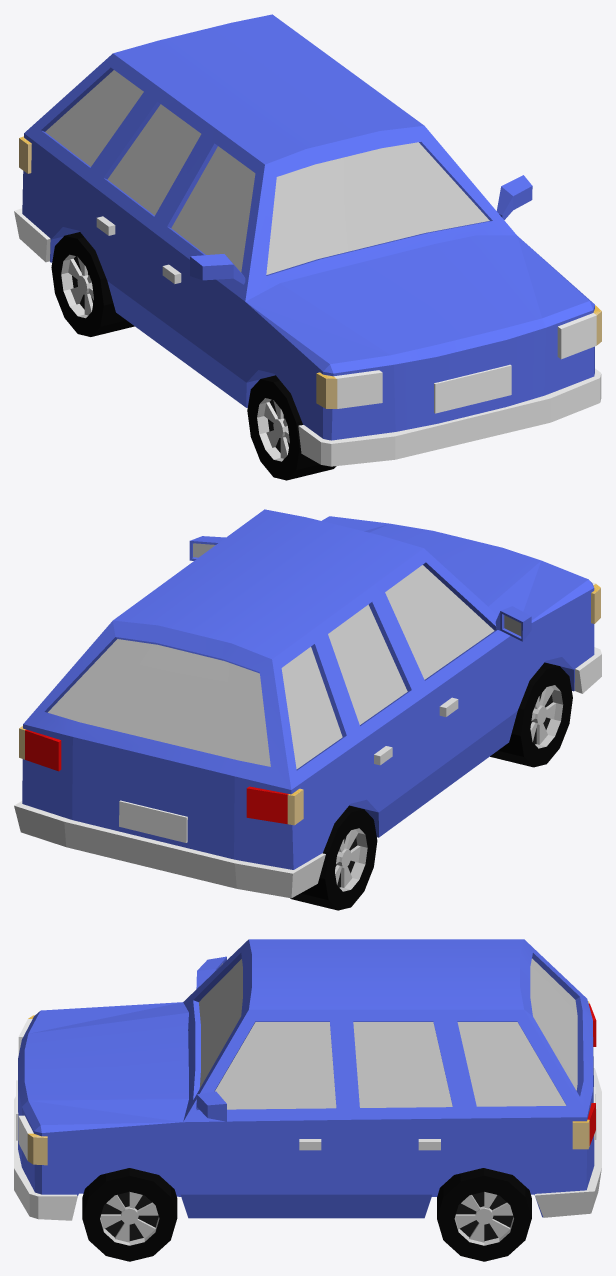
Rendered from Car-03-C.fbx.
The picture shows the model from 3 angles, top to bottom: view 1: azimuth 30°, elevation 25°; view 2: azimuth 150°, elevation 25°; view 3: azimuth 270°, elevation 25°; orthographic projection. The views are drawn at different scales.
Visible parts, largest first — view 1: Car-03, BR, FR, High-Beam, Light-Right; view 2: Car-03, FR, BR, Break-Light, Light-Right; view 3: Car-03, FL, BL, Light-Left, High-Beam.
Boxes of the visible parts, x1=… form: Car-03: x1=14, y1=14, x2=601, y2=466; BR: x1=51, y1=232, x2=134, y2=336; FR: x1=247, y1=375, x2=336, y2=480; High-Beam: x1=334, y1=313, x2=596, y2=408; Light-Right: x1=19, y1=136, x2=337, y2=408; Car-03: x1=14, y1=509, x2=601, y2=898; FR: x1=490, y1=662, x2=572, y2=767; BR: x1=290, y1=805, x2=377, y2=910; Break-Light: x1=25, y1=730, x2=287, y2=824; Light-Right: x1=287, y1=584, x2=600, y2=825; Car-03: x1=14, y1=939, x2=601, y2=1220; FL: x1=82, y1=1168, x2=177, y2=1261; BL: x1=437, y1=1168, x2=531, y2=1261; Light-Left: x1=27, y1=1120, x2=589, y2=1165; High-Beam: x1=18, y1=1019, x2=33, y2=1160.
Size of the model in its own units: 2.45 by 1.79 by 4.14.
